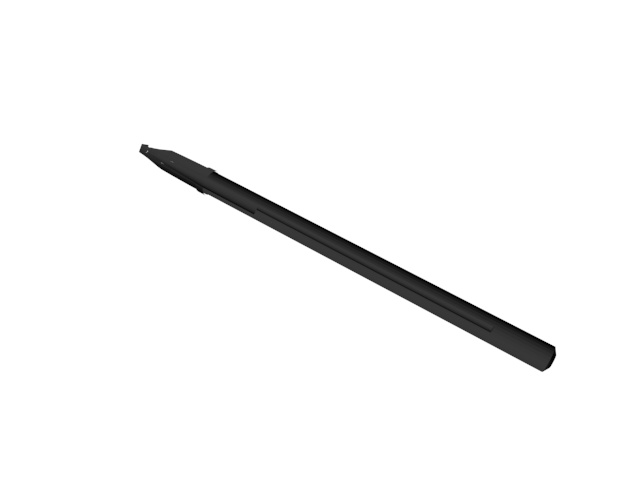pen: (137, 137, 560, 376)
